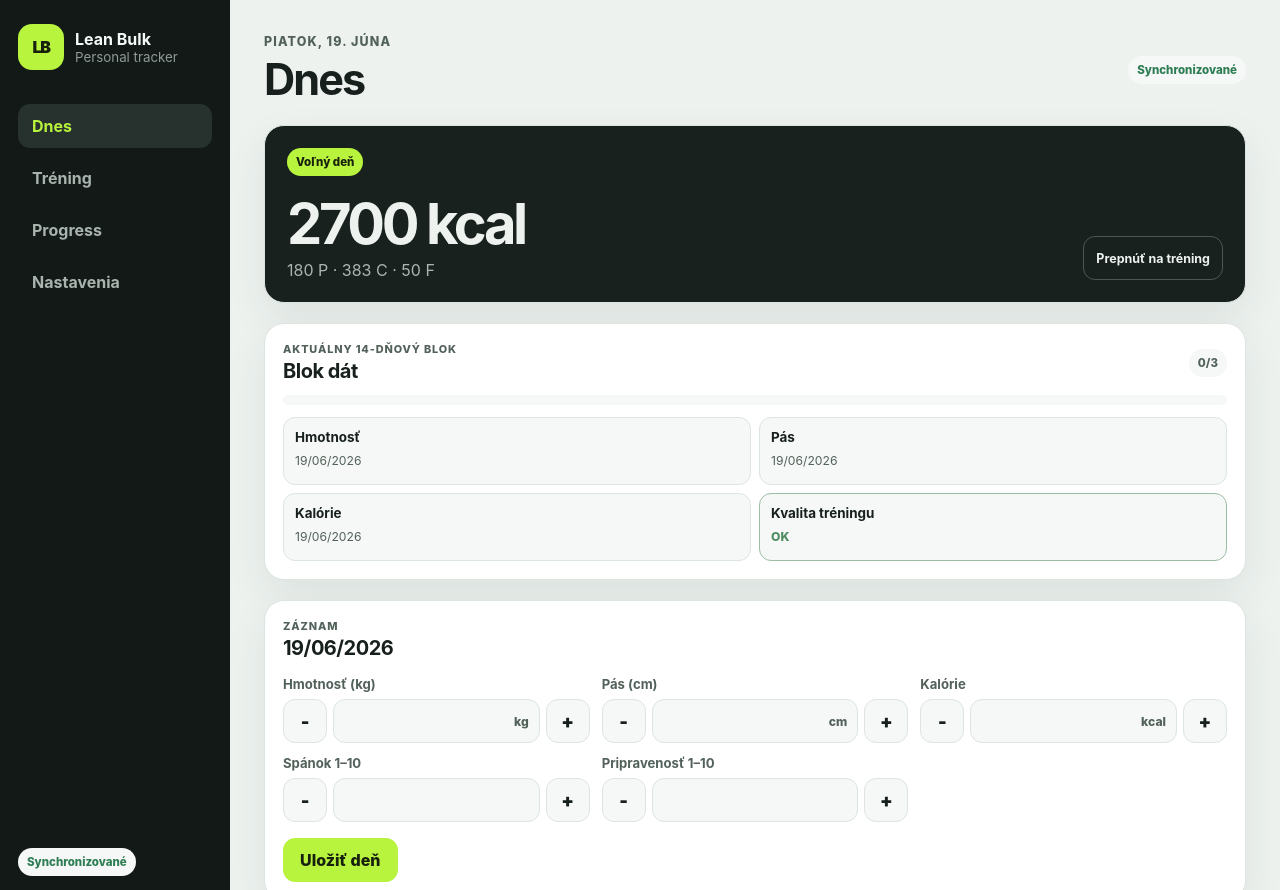
it: App demo mode › shows saving progress and confirms a saved daily entry
The width and height of the screenshot is (1280, 890).
Later steps or results of the test are not shown.
Type "81.4" into the number field labelled "Hmotnosť (kg)". click: (436, 721)
box: [333,699,540,743]
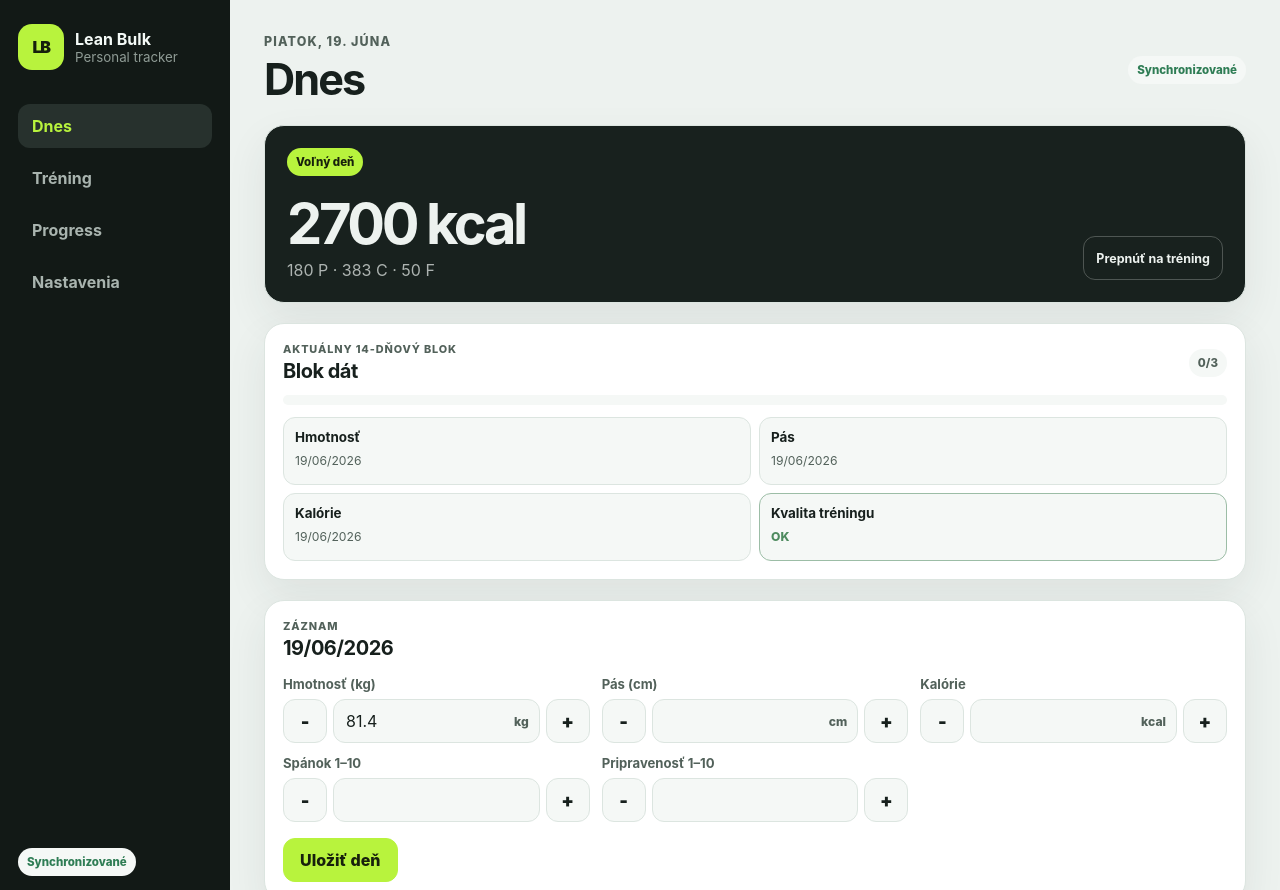
Click the button "Uložiť deň". click: (340, 860)
box: [283,838,398,882]
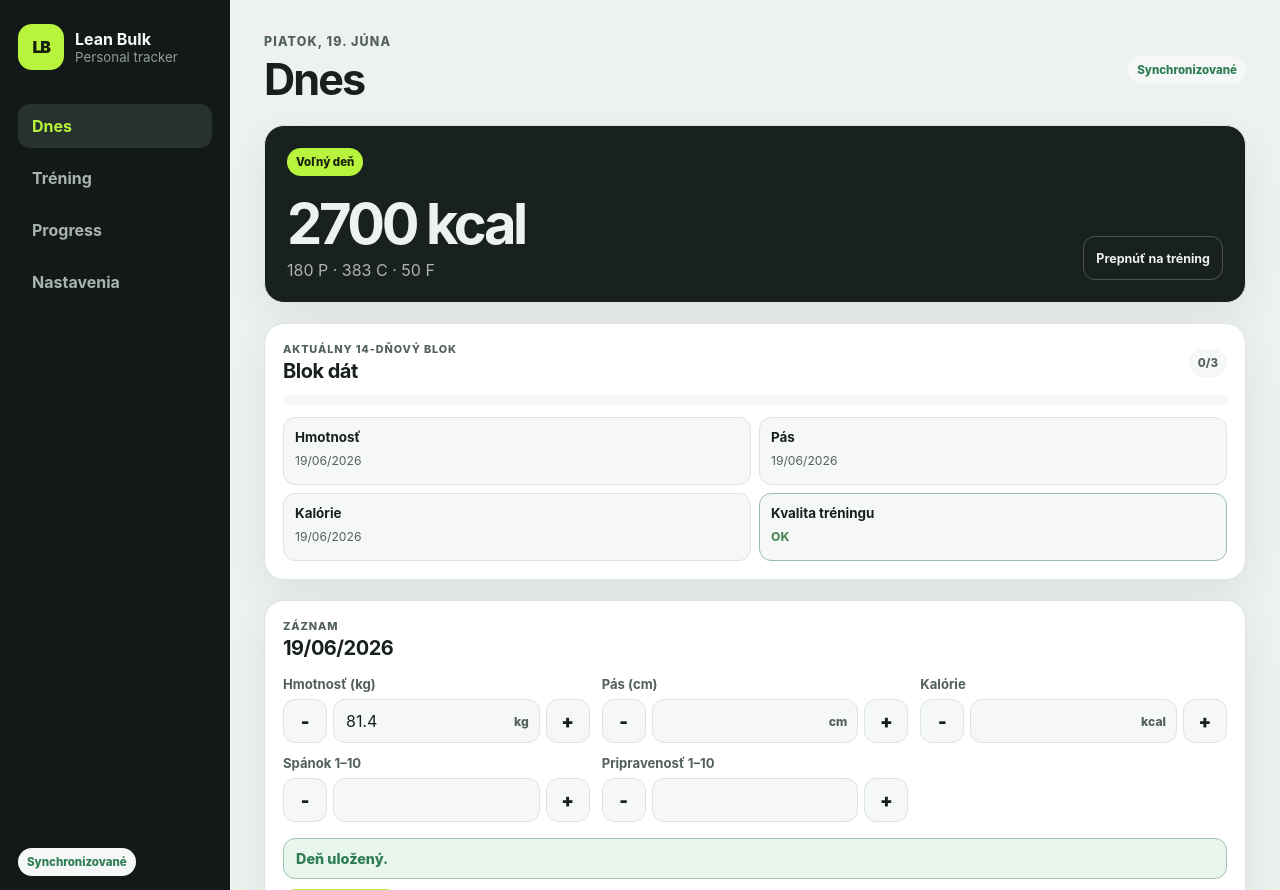
Check: the text "Deň uložený." is shown, box [283,838,1227,879]
